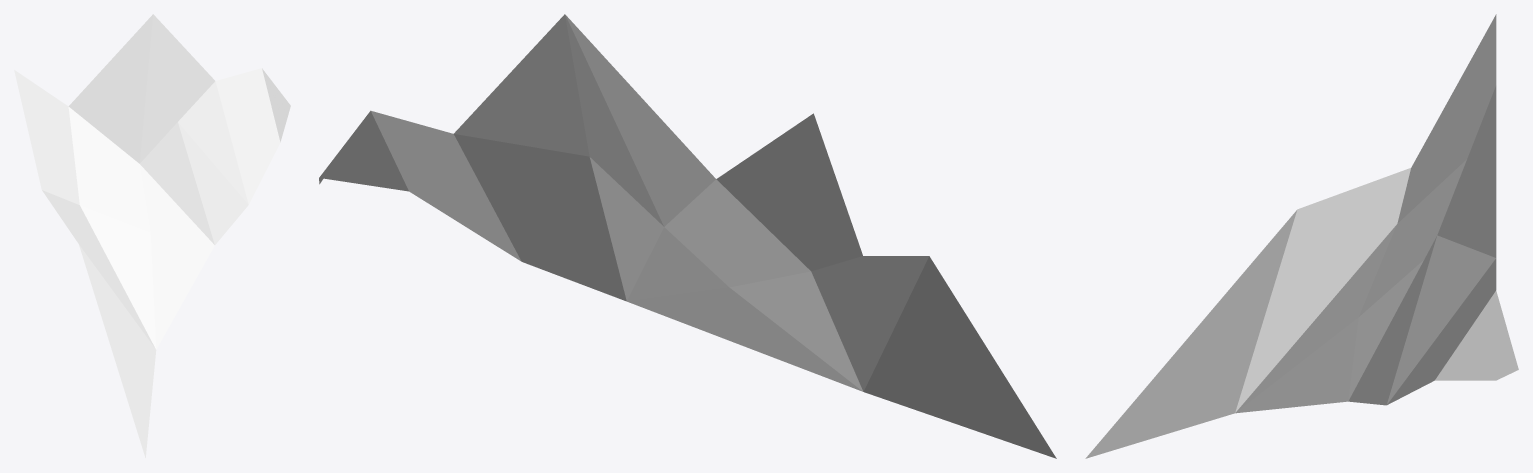
File: SM_Env_SpiderWeb_01.fbx
3 views of the same model, side by side, from view 1: azimuth 30°, elevation 25°; view 2: azimuth 150°, elevation 25°; view 3: azimuth 270°, elevation 25° (orthographic). The views are drawn at different scales.
Visible parts, largest first — view 1: SM_Env_SpiderWeb_01; view 2: SM_Env_SpiderWeb_01; view 3: SM_Env_SpiderWeb_01.
Boxes of the visible parts, x1,y1,x2,y2 form: SM_Env_SpiderWeb_01: (14, 14, 290, 457); SM_Env_SpiderWeb_01: (319, 14, 1056, 458); SM_Env_SpiderWeb_01: (1085, 14, 1518, 458).
Size of the model in its own units: 121 by 129 by 106.
